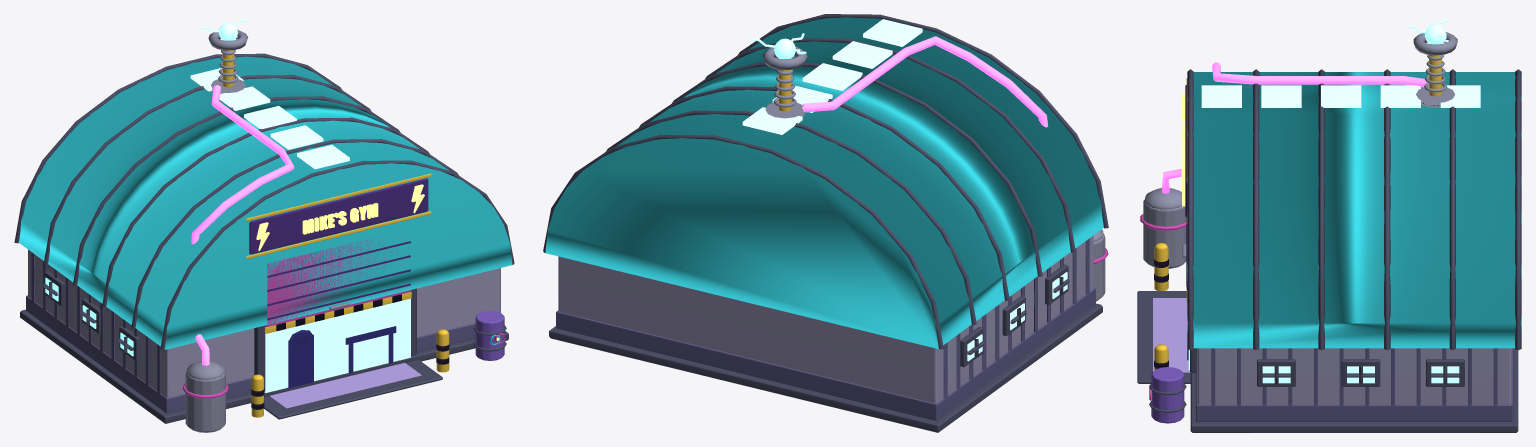
The model's file is mike_gym.glb.
3 views of the same model, side by side, from view 1: azimuth 30°, elevation 25°; view 2: azimuth 150°, elevation 25°; view 3: azimuth 270°, elevation 25° (orthographic). The views are drawn at different scales.
Parts seen in each view (by area): view 1: Body, GarageDoor, Sign, Coil, Clutter; view 2: Body, Coil; view 3: Body, Coil, GarageDoor, Clutter, Sign.
Part boxes in pixels (left/top/right/bottom): Body: left=14, top=53, right=514, bottom=423; GarageDoor: left=254, top=235, right=442, bottom=419; Sign: left=246, top=173, right=431, bottom=258; Coil: left=182, top=14, right=294, bottom=432; Clutter: left=251, top=310, right=506, bottom=417; Body: left=543, top=14, right=1108, bottom=432; Coil: left=749, top=33, right=1108, bottom=301; Body: left=1187, top=69, right=1521, bottom=432; Coil: left=1140, top=14, right=1457, bottom=268; GarageDoor: left=1137, top=217, right=1196, bottom=383; Clutter: left=1149, top=243, right=1186, bottom=423; Sign: left=1181, top=78, right=1187, bottom=223.
Bounding box in the file's own units: 7.08 × 5.34 × 5.92.
